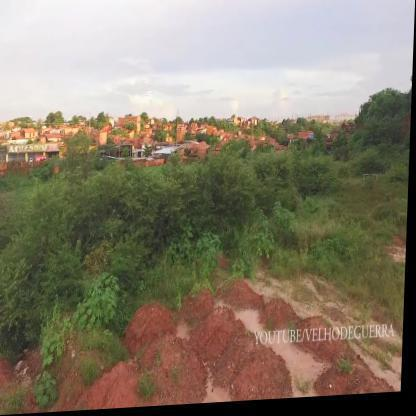agua: (239, 312, 267, 332)
